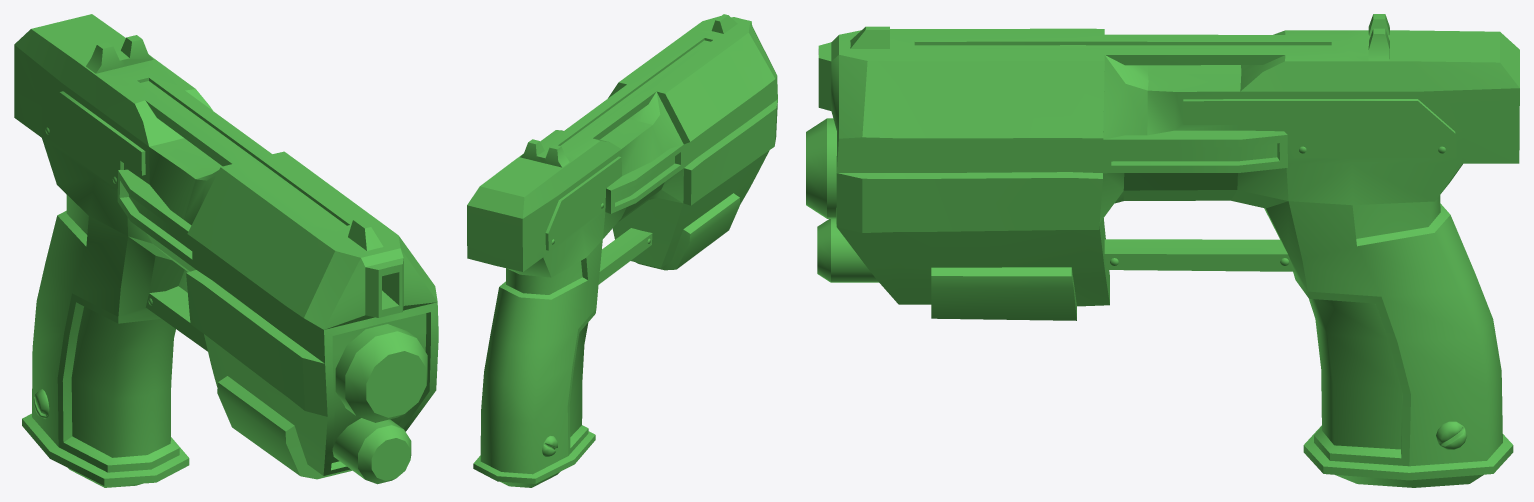
The model's file is prop_wep_gun.FBX.
3 renders of one model, left to right at view 1: azimuth 30°, elevation 25°; view 2: azimuth 150°, elevation 25°; view 3: azimuth 270°, elevation 25°, orthographic. The views are drawn at different scales.
Visible parts, largest first — view 1: wep_rg_main; view 2: wep_rg_main; view 3: wep_rg_main.
Part boxes in pixels (x1,y1,x2,y2): wep_rg_main: (14,14,438,487); wep_rg_main: (467,14,777,487); wep_rg_main: (806,14,1519,487).
Size of the model in its own units: 0.0594 by 0.1825 by 0.2641.
